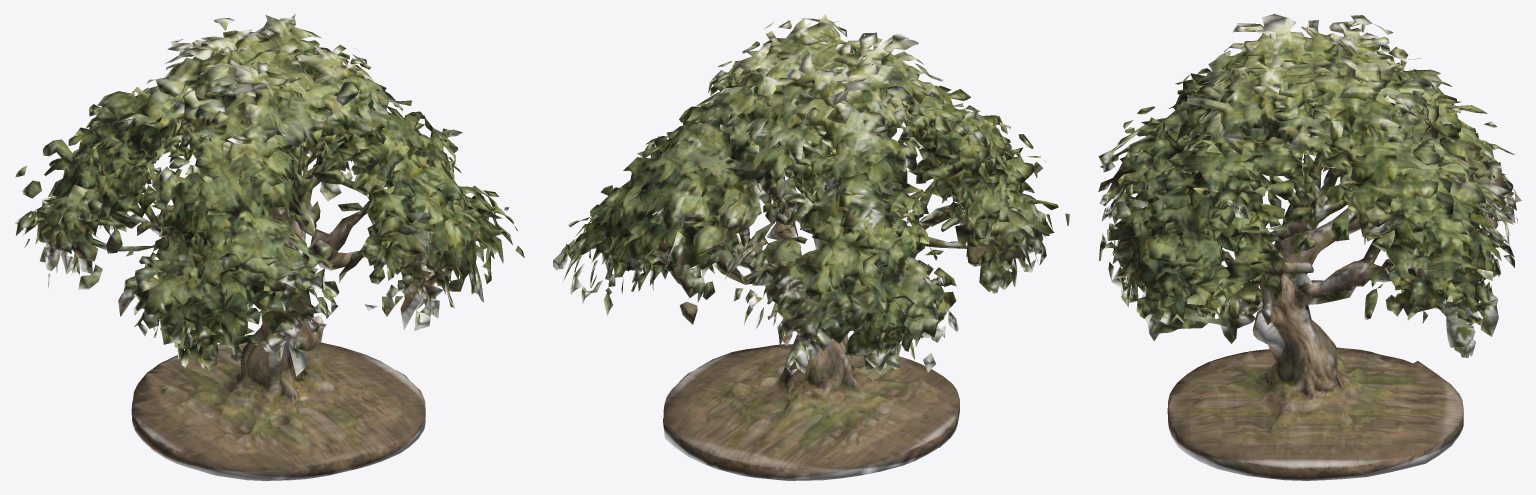
File: street-tree.glb
3 views of the same model, side by side, from view 1: azimuth 30°, elevation 25°; view 2: azimuth 150°, elevation 25°; view 3: azimuth 270°, elevation 25° (orthographic).
Visible parts, largest first — view 1: geometry_0; view 2: geometry_0; view 3: geometry_0.
Part boxes in pixels (box(x1,y1,x2,y2)): geometry_0: box(14, 14, 524, 480); geometry_0: box(553, 14, 1069, 480); geometry_0: box(1098, 14, 1521, 480).
Size of the model in its own units: 1.92 by 1.87 by 1.9.
1 material, 1 textured.
